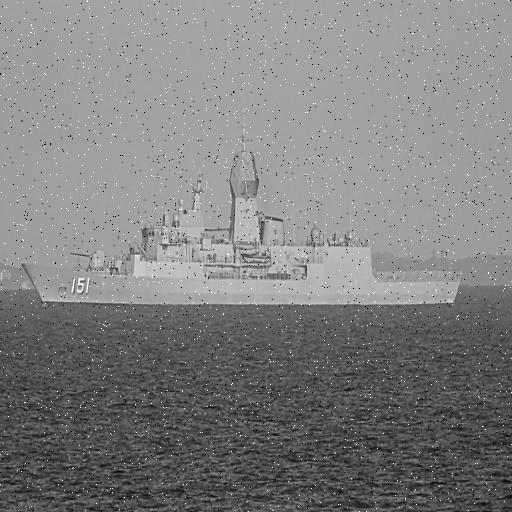Fragata: (17, 114, 465, 308)
